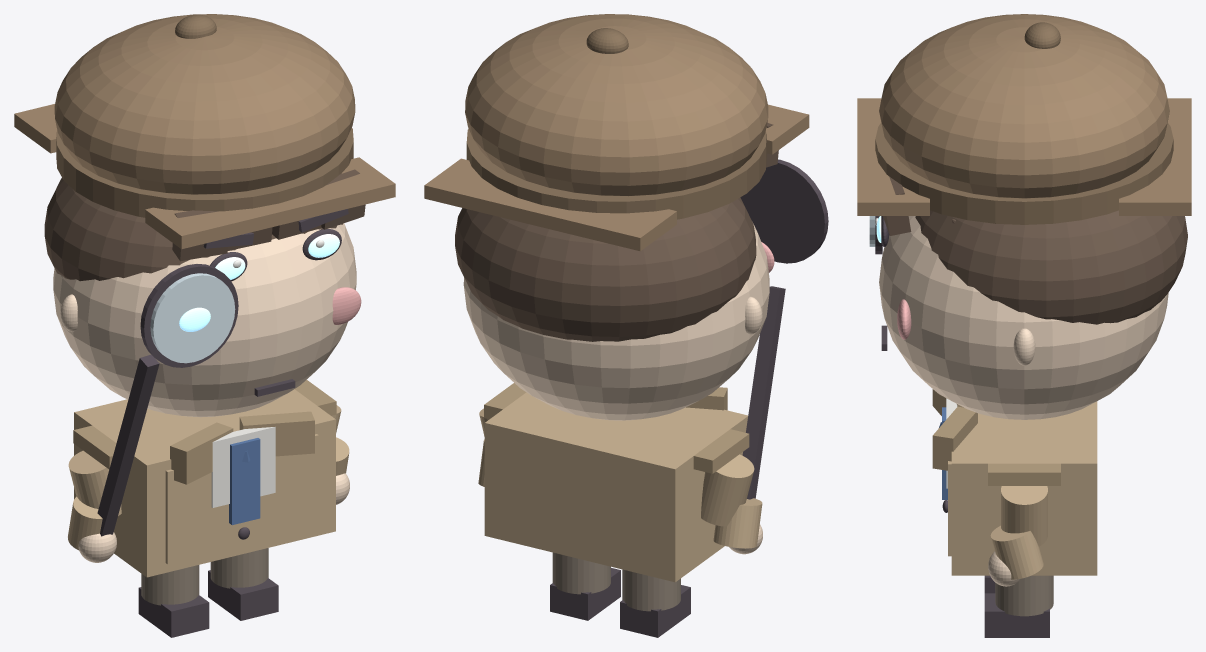
The model's file is detective.glb.
3 views of the same model, side by side, from view 1: azimuth 30°, elevation 25°; view 2: azimuth 150°, elevation 25°; view 3: azimuth 270°, elevation 25° (orthographic).
Visible parts, largest first — view 1: HatTop, Head, Coat, CoatFront, HairCap, HatBrimF, HatBand, LensGlass, LensHandle, ShirtV, Tie, Collar_R (+19 smaller); view 2: HatTop, Coat, HairCap, Head, HatBrimB, HatBand, LensRing, LensHandle, UpperArm_L, Leg_L, Leg_R, Shoe_R (+7 smaller); view 3: HatTop, Head, HairCap, Coat, HatBand, HatBrimB, HatBrimF, UpperArm_R, Leg_R, Forearm_R, Shoe_R, Epaulet_R (+5 smaller).
Boxes of the visible parts, left/top/right/bottom form: HatTop: left=54, top=14, right=355, bottom=194; Head: left=53, top=223, right=356, bottom=417; Coat: left=74, top=389, right=335, bottom=577; CoatFront: left=165, top=434, right=318, bottom=564; HairCap: left=44, top=178, right=342, bottom=281; HatBrimF: left=145, top=157, right=395, bottom=249; HatBand: left=56, top=128, right=353, bottom=217; LensGlass: left=150, top=273, right=235, bottom=363; LensHandle: left=97, top=354, right=159, bottom=536; ShirtV: left=211, top=427, right=275, bottom=507; Tie: left=229, top=438, right=260, bottom=525; Collar_R: left=239, top=411, right=314, bottom=456; HatTop: left=465, top=14, right=768, bottom=196; Coat: left=484, top=392, right=747, bottom=582; HairCap: left=455, top=197, right=756, bottom=341; Head: left=463, top=223, right=769, bottom=420; HatBrimB: left=424, top=158, right=676, bottom=251; HatBand: left=466, top=129, right=766, bottom=219; LensRing: left=740, top=159, right=828, bottom=263; LensHandle: left=742, top=286, right=785, bottom=499; UpperArm_L: left=701, top=454, right=754, bottom=526; Leg_L: left=622, top=569, right=680, bottom=611; Leg_R: left=552, top=552, right=610, bottom=594; Shoe_R: left=550, top=568, right=620, bottom=620; HatTop: left=879, top=14, right=1169, bottom=198; Head: left=879, top=216, right=1168, bottom=419; HairCap: left=915, top=210, right=1187, bottom=324; Coat: left=951, top=401, right=1097, bottom=575; HatBand: left=875, top=123, right=1173, bottom=224; HatBrimB: left=1119, top=98, right=1191, bottom=215; HatBrimF: left=857, top=98, right=929, bottom=215; UpperArm_R: left=1001, top=486, right=1047, bottom=546; Leg_R: left=995, top=575, right=1053, bottom=616; Forearm_R: left=990, top=525, right=1043, bottom=579; Shoe_R: left=984, top=593, right=1049, bottom=637; Epaulet_R: left=988, top=463, right=1060, bottom=485.
Bounding box in the file's own units: 1.02 × 2 × 1.03.
